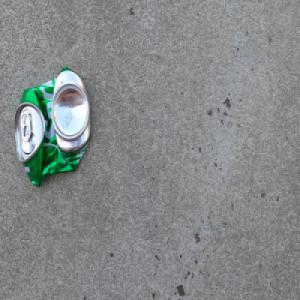SodaCan: (13, 65, 91, 188)
